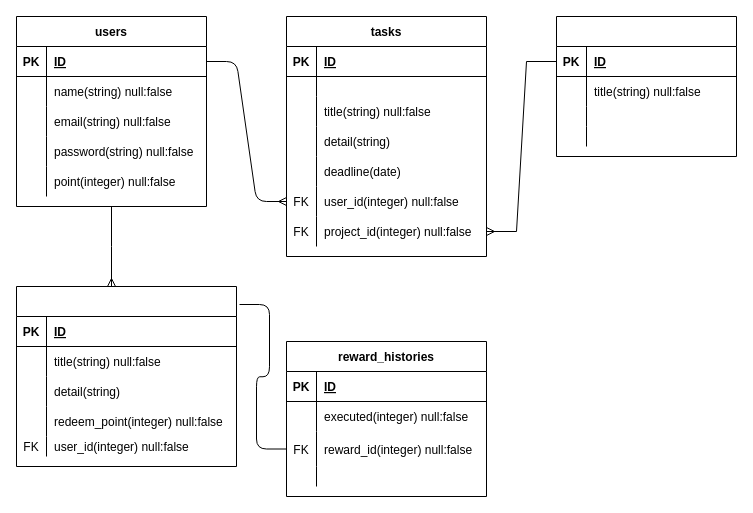
Image size: 753x513. Some labels were removed from this diagram. The shapes that lost their labels are listed below. From the top down, each one's box as (x1, y1, x2, y2) in pixels, then its label:
(556, 16, 736, 156): projects
(16, 286, 236, 466): rewards
